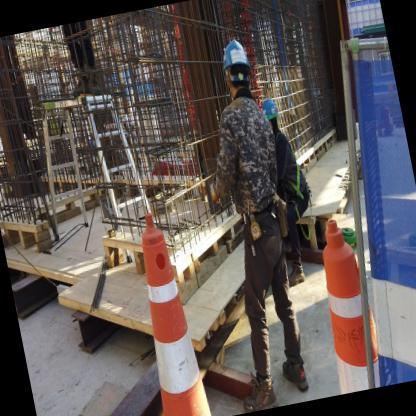Helmet: (213, 28, 257, 77)
safety-shoe: (277, 349, 314, 399), (237, 373, 279, 413)
